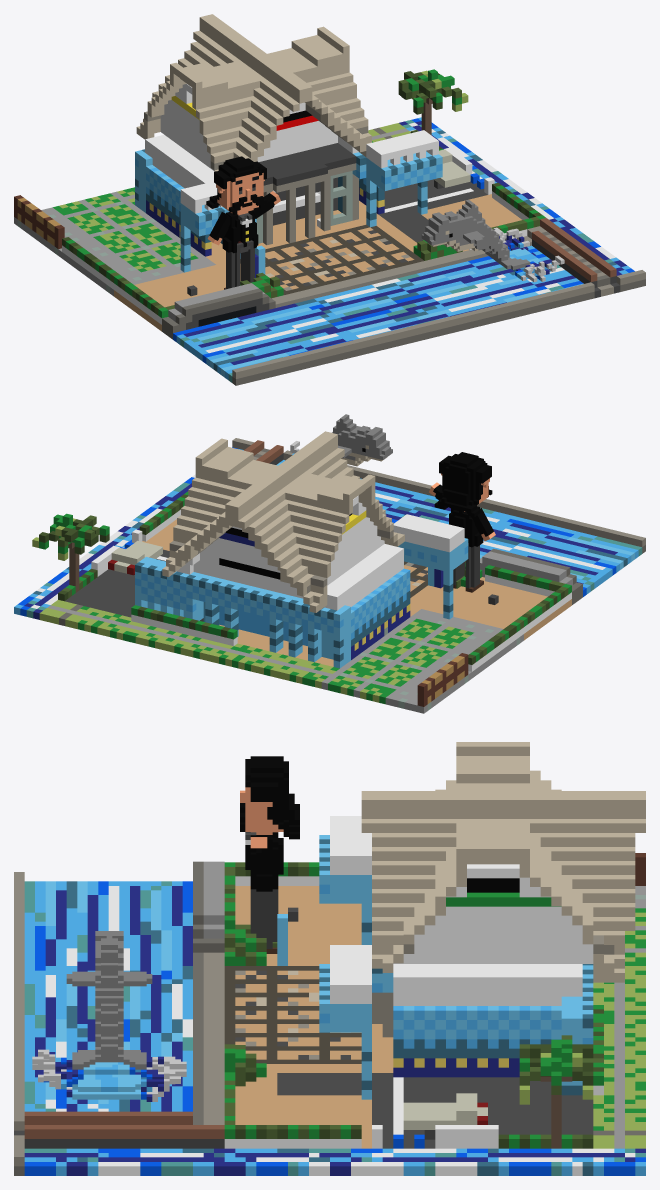
File: 鹿児島3D_大久保利通と水族館.glb
The picture shows the model from 3 angles, top to bottom: view 1: azimuth 30°, elevation 25°; view 2: azimuth 150°, elevation 25°; view 3: azimuth 270°, elevation 25°; orthographic projection. The views are drawn at different scales.
Visible parts, largest first — view 1: Untitled.005, Untitled.004, Untitled.003; view 2: Untitled.005, Untitled.004, Untitled.003; view 3: Untitled.005, Untitled.003, Untitled.004.
Boxes of the visible parts, x1,y1,x2,y2 form: Untitled.005: [14, 14, 645, 385]; Untitled.004: [206, 156, 267, 289]; Untitled.003: [421, 199, 564, 282]; Untitled.005: [14, 431, 645, 713]; Untitled.004: [434, 452, 492, 592]; Untitled.003: [290, 414, 392, 466]; Untitled.005: [14, 742, 645, 1175]; Untitled.003: [32, 931, 186, 1101]; Untitled.004: [240, 756, 299, 953].
Size of what is drawn, in the model's own units: 1.28 by 0.48 by 1.2.
Materials: 5 (5 with a texture image).
